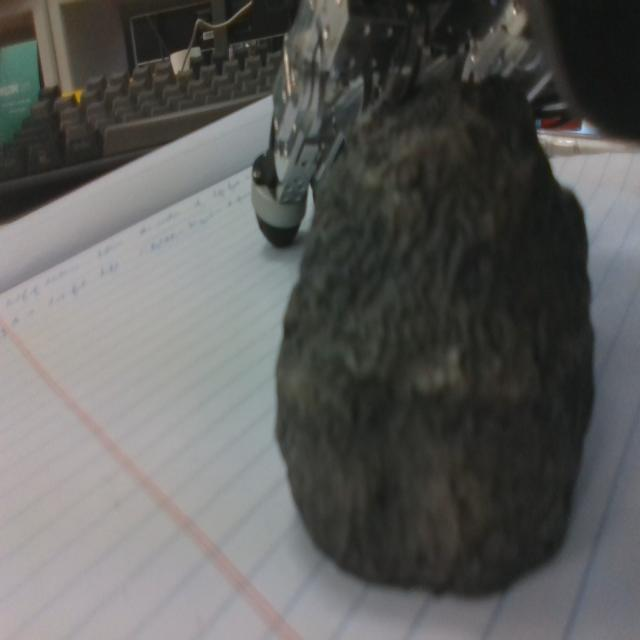stone: (276, 77, 595, 594)
